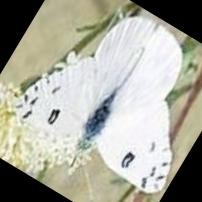butterfly: (15, 15, 182, 193)
